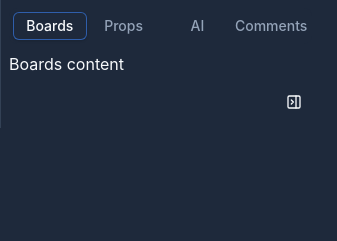
Scenario: Right panel collapse › rail tab click expands panel and shows that tab content
The image size is (337, 241).
Click the button with test id "sidebar-collapse": [294, 102] box [276, 84, 312, 120]
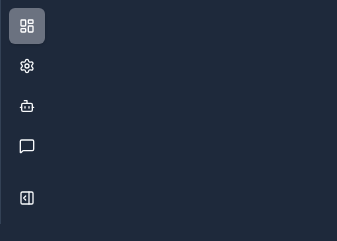
Result: the element with test id "sidebar" is collapsed at [0, 0, 56, 224]
Click the button with test id "sidebar-rail-tab-props": [27, 66] box [9, 48, 45, 84]
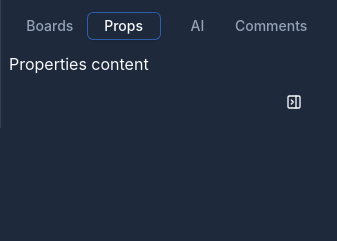
Result: the element with test id "sidebar" is expanded at [0, 0, 320, 128]
Result: the panel with test id "props-tab-content" is shown at [9, 54, 149, 74]
